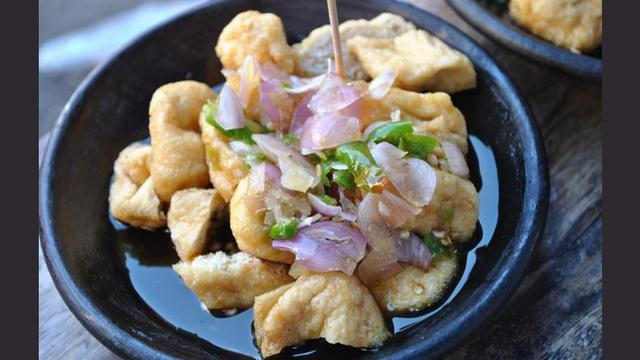tahu_gejrot: (108, 10, 482, 359)
